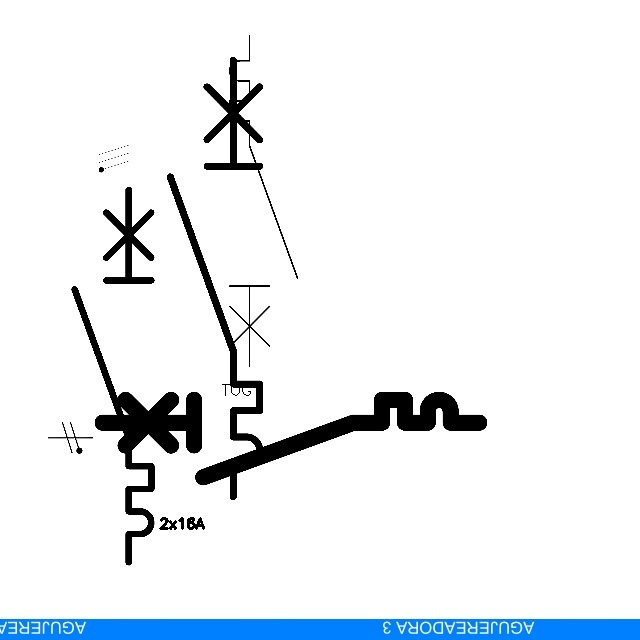interruptor_termomagnetico: (159, 49, 271, 508), (92, 390, 488, 487), (65, 180, 161, 572), (221, 27, 306, 375)
